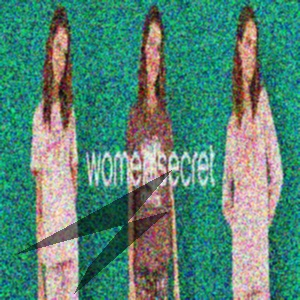women_secret: (174, 74, 259, 220)
